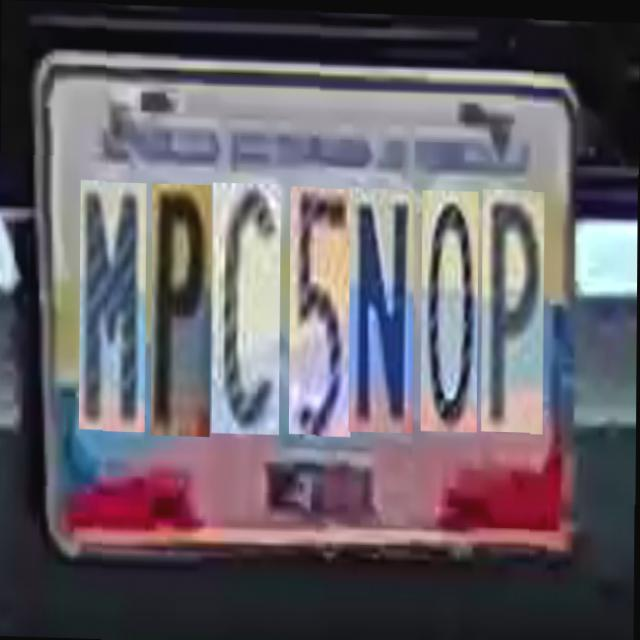5: (289, 184, 352, 433)
C: (212, 182, 281, 434)
M: (80, 180, 146, 432)
N: (350, 184, 414, 430)
O: (422, 186, 478, 428)
P: (482, 185, 545, 428), (152, 183, 212, 436)
